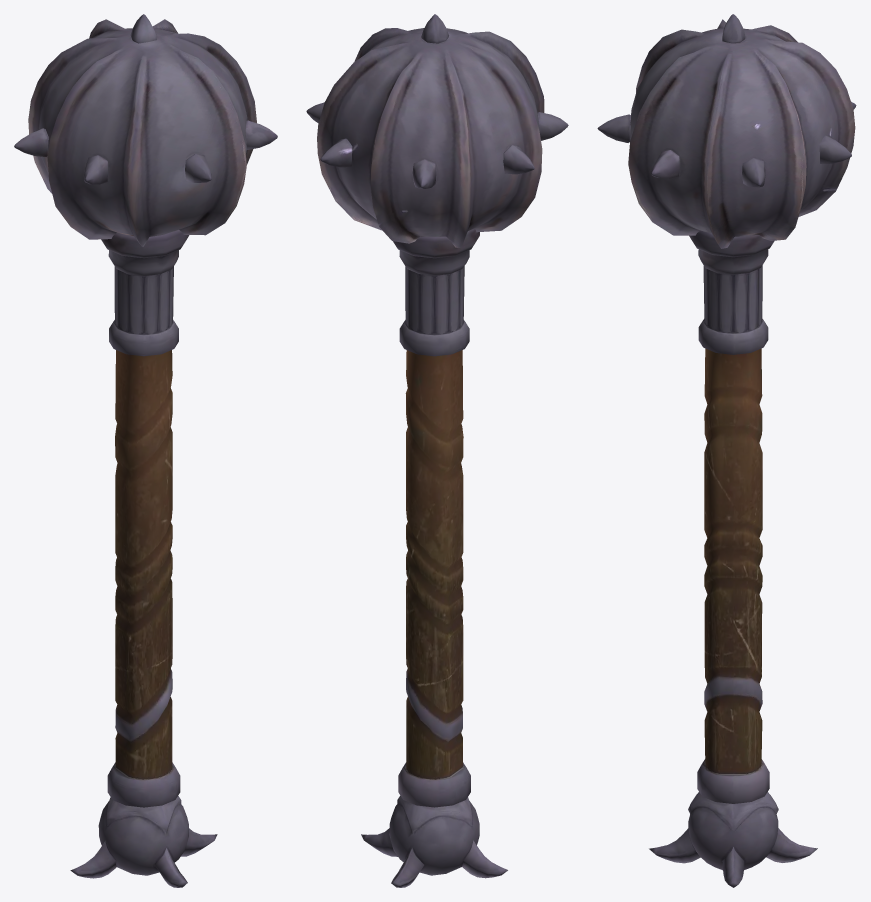
The picture shows the model from 3 angles, left to right: view 1: azimuth 30°, elevation 25°; view 2: azimuth 150°, elevation 25°; view 3: azimuth 270°, elevation 25°; orthographic projection.
Parts seen in each view (by area): view 1: SM_Mace_Mithril_1H_01_LOD0; view 2: SM_Mace_Mithril_1H_01_LOD0; view 3: SM_Mace_Mithril_1H_01_LOD0.
Boxes of the visible parts, x1,y1,x2,y2 form: SM_Mace_Mithril_1H_01_LOD0: (14, 14, 277, 887); SM_Mace_Mithril_1H_01_LOD0: (306, 14, 568, 887); SM_Mace_Mithril_1H_01_LOD0: (597, 14, 856, 887).
Size of the model in its own units: 0.2497 by 0.8893 by 0.2445.
1 material, 1 textured.
